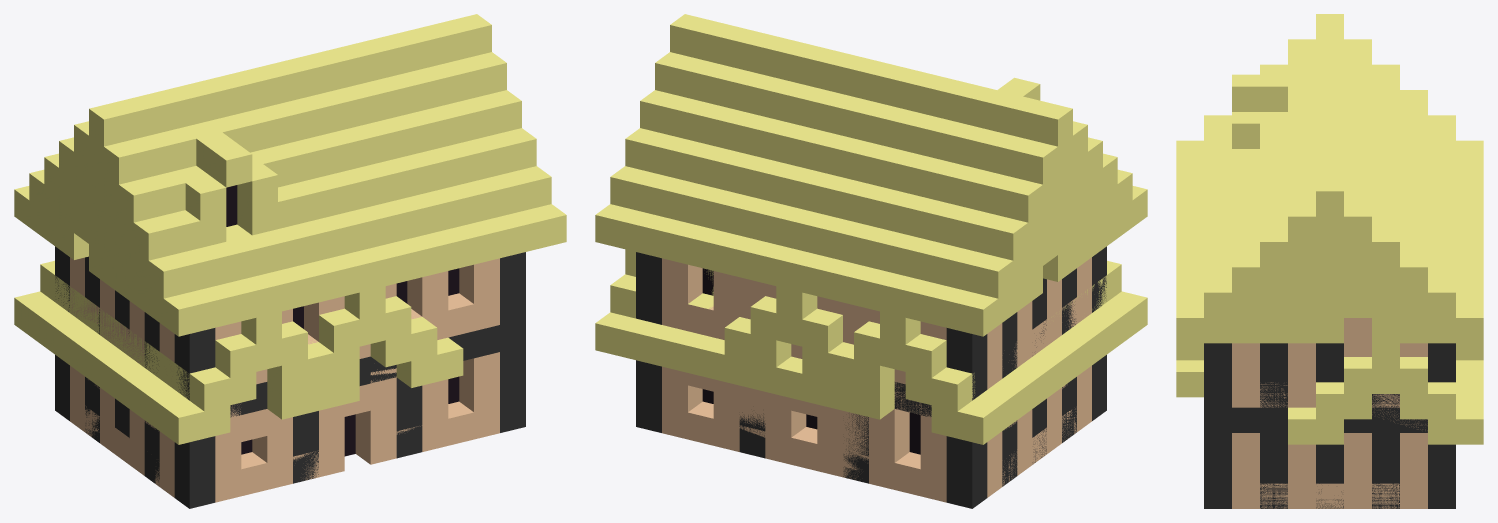
Rendered from Hovels_v2.glb.
3 renders of one model, left to right at view 1: azimuth 30°, elevation 25°; view 2: azimuth 150°, elevation 25°; view 3: azimuth 270°, elevation 25°, orthographic. The views are drawn at different scales.
Parts seen in each view (by area): view 1: MediumHouse2, MediumHouse3, SmallHouse2, SmallHouse3, MediumHouse1; view 2: MediumHouse2, SmallHouse3, MediumHouse3, SmallHouse2, MediumHouse1; view 3: MediumHouse2, MediumHouse1, SmallHouse3, MediumHouse3, SmallHouse2.
Boxes of the visible parts, left/top/right/bottom form: MediumHouse2: left=14, top=14, right=566, bottom=508; MediumHouse3: left=46, top=153, right=359, bottom=508; SmallHouse2: left=267, top=286, right=463, bottom=475; SmallHouse3: left=14, top=260, right=330, bottom=442; MediumHouse1: left=44, top=163, right=159, bottom=483; MediumHouse2: left=595, top=14, right=1147, bottom=508; SmallHouse3: left=595, top=249, right=1147, bottom=507; MediumHouse3: left=713, top=185, right=1147, bottom=500; SmallHouse2: left=698, top=286, right=894, bottom=483; MediumHouse1: left=1002, top=163, right=1117, bottom=486; MediumHouse2: left=1176, top=14, right=1483, bottom=508; MediumHouse1: left=1232, top=242, right=1427, bottom=508; SmallHouse3: left=1288, top=343, right=1483, bottom=508; MediumHouse3: left=1288, top=243, right=1427, bottom=508; SmallHouse2: left=1176, top=343, right=1483, bottom=397.
Bounding box in the file's own units: 15 × 13 × 11.
3 materials, 1 textured.
